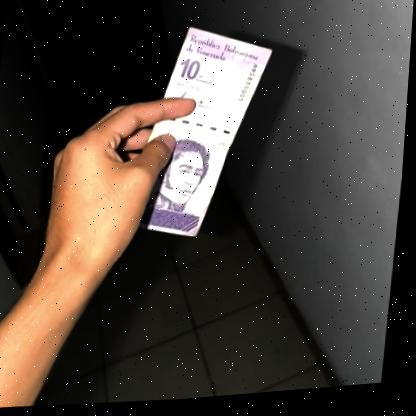ten-front-vef: (138, 23, 277, 248)
